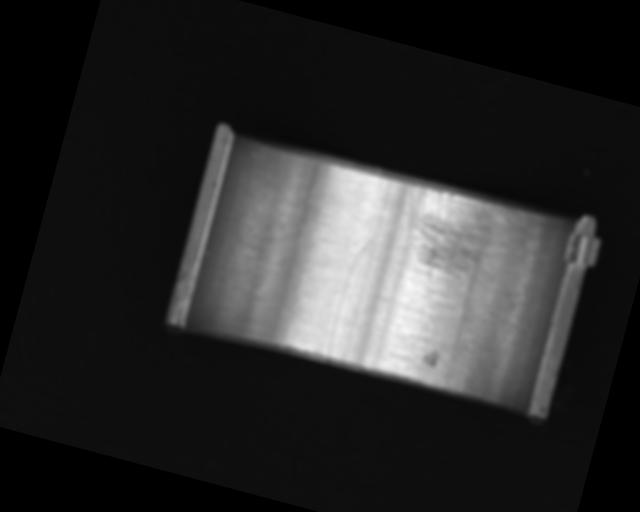bruise: (419, 346, 441, 369)
nick: (323, 233, 374, 364)
scratch: (384, 179, 521, 299)
